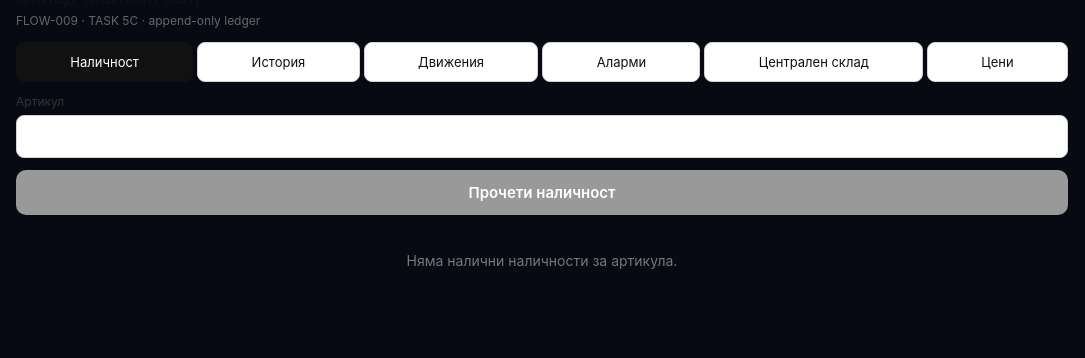
history without values (FG-23) renders
The width and height of the screenshot is (1085, 358).
What coordinates should you click on to do the following:
click the button with test id "wh-tab-history"
I would click on:
 (278, 62)
Its box is [197, 42, 360, 82].
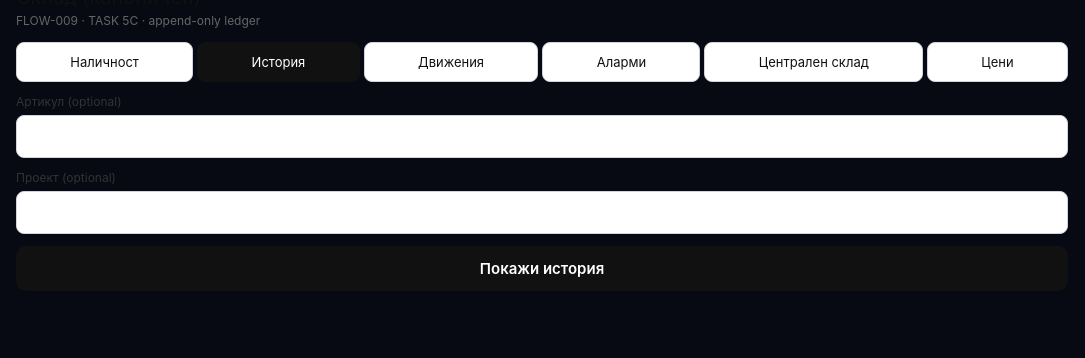
What coordinates should you click on to do the following:
click the button "Покажи история"
I would click on:
 (542, 268)
Its box is [16, 246, 1068, 291].
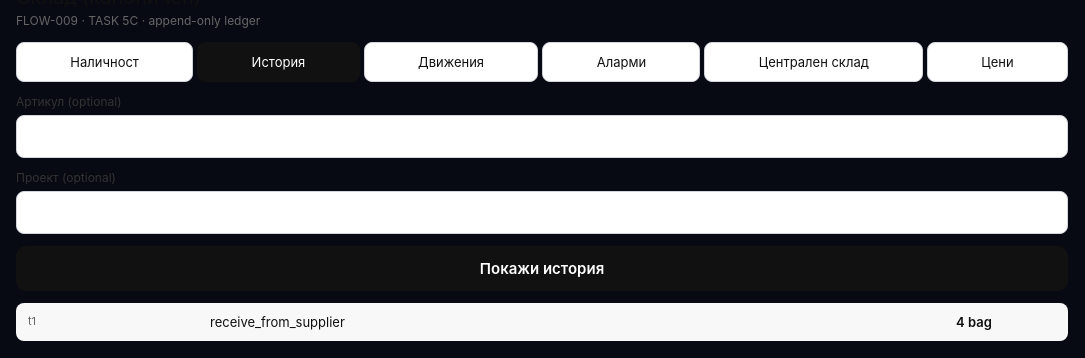
Expected: the text "4 bag" is shown, [956, 314, 992, 330]
